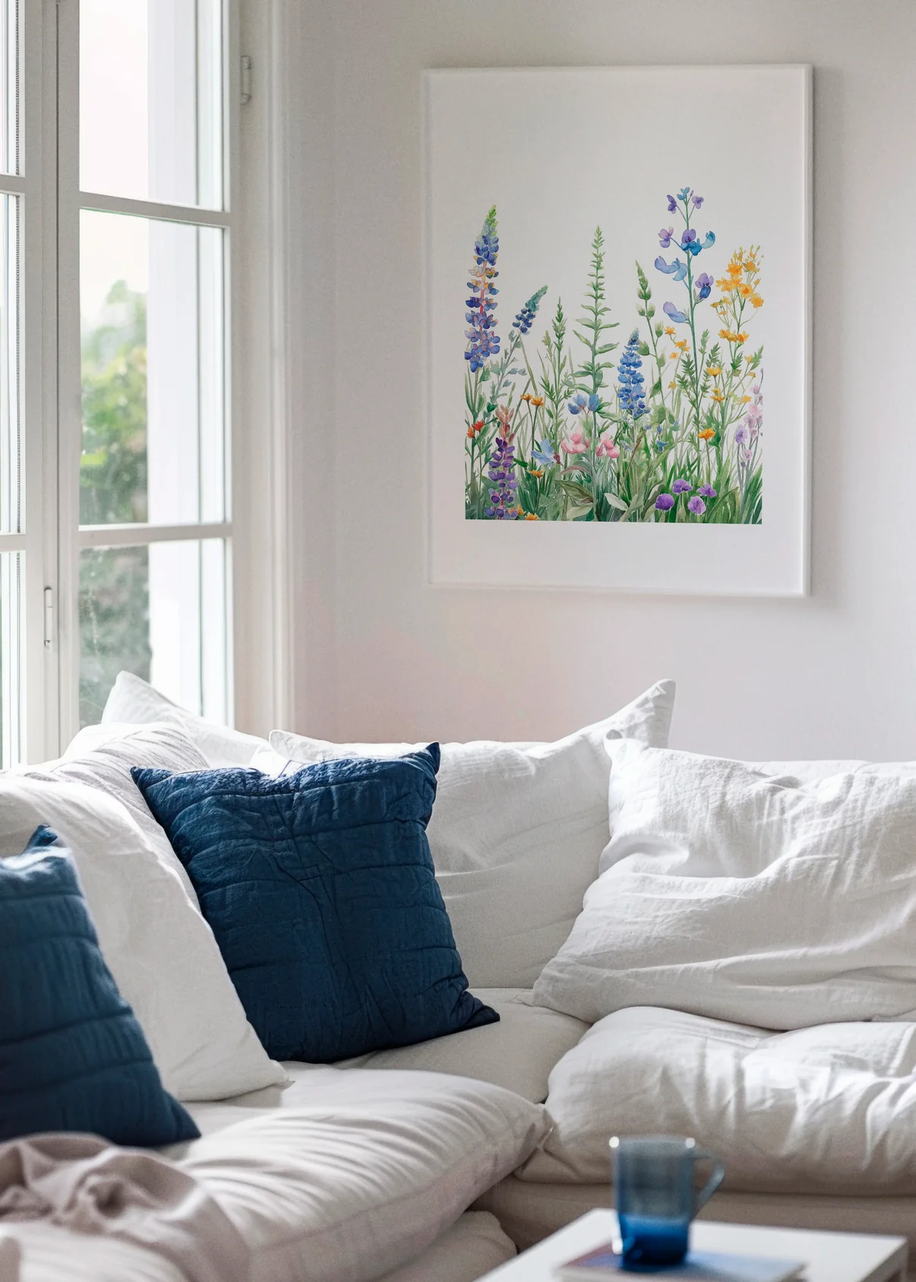painting: (419, 61, 817, 599)
